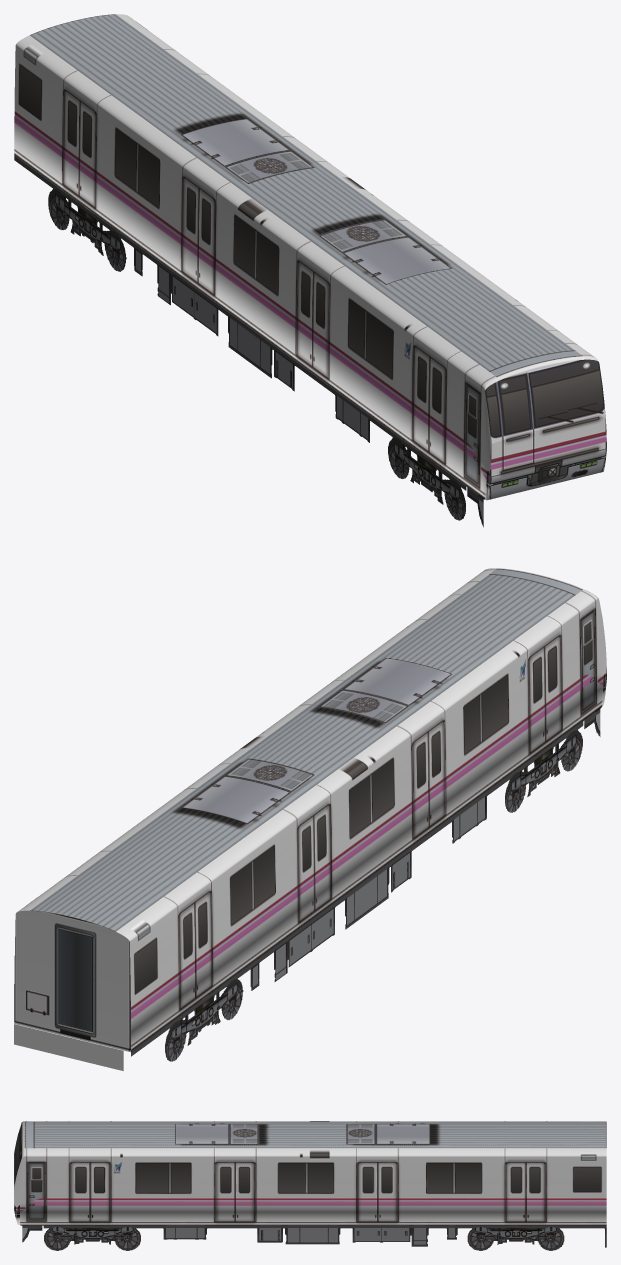
File: car1.glb
3 views of the same model, one above another, from view 1: azimuth 30°, elevation 25°; view 2: azimuth 150°, elevation 25°; view 3: azimuth 270°, elevation 25° (orthographic). The views are drawn at different scales.
Parts seen in each view (by area): view 1: meitetsu300-car1; view 2: meitetsu300-car1; view 3: meitetsu300-car1.
Boxes of the visible parts, x1,y1,x2,y2 form: meitetsu300-car1: (14,14,606,527); meitetsu300-car1: (14,568,606,1070); meitetsu300-car1: (14,1121,606,1250).
Size of the model in its own units: 2.75 by 3.62 by 19.41.
Materials: 9 (8 with a texture image).
